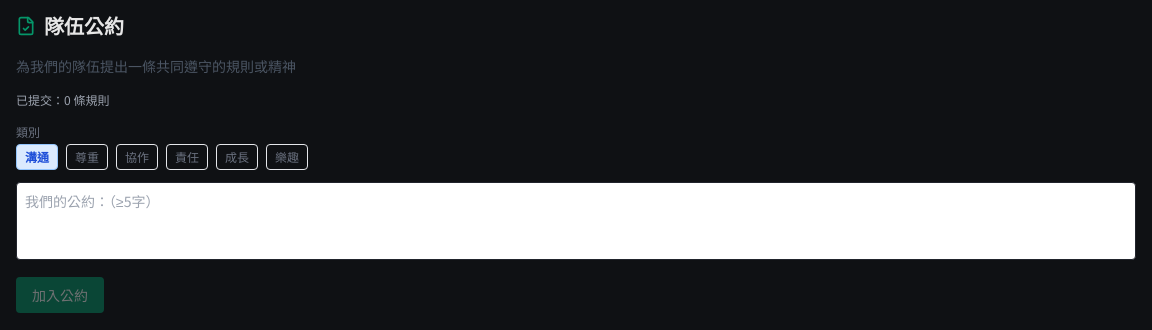
Scenario: TeamPact › 填入規則後可提交
The image size is (1152, 330).
Step 1. Type "每次會議準時出席，尊重彼此的時間" into the text box with test id "tp-rule-input" → (576, 221), box [16,182,1136,260]
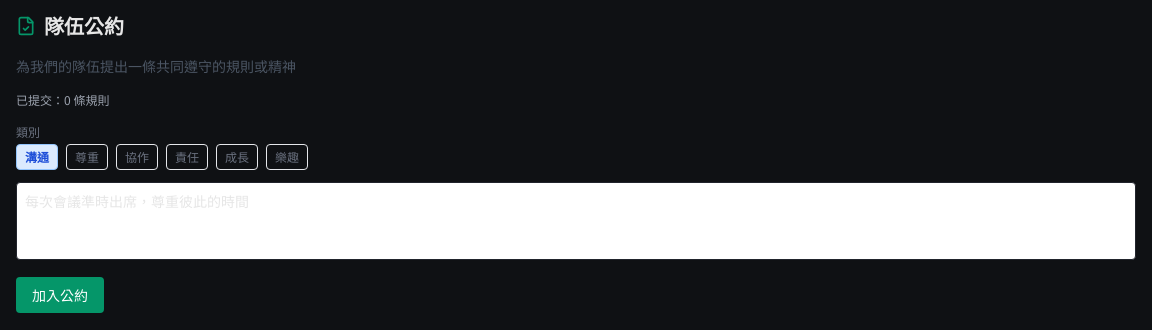
Result: the button with test id "tp-submit-btn" is enabled at [16,277,104,313]
